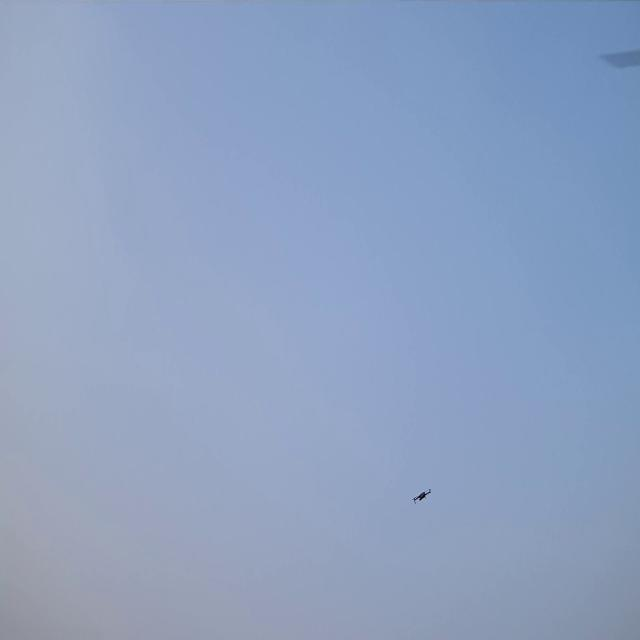UAV: (414, 489, 430, 502)
